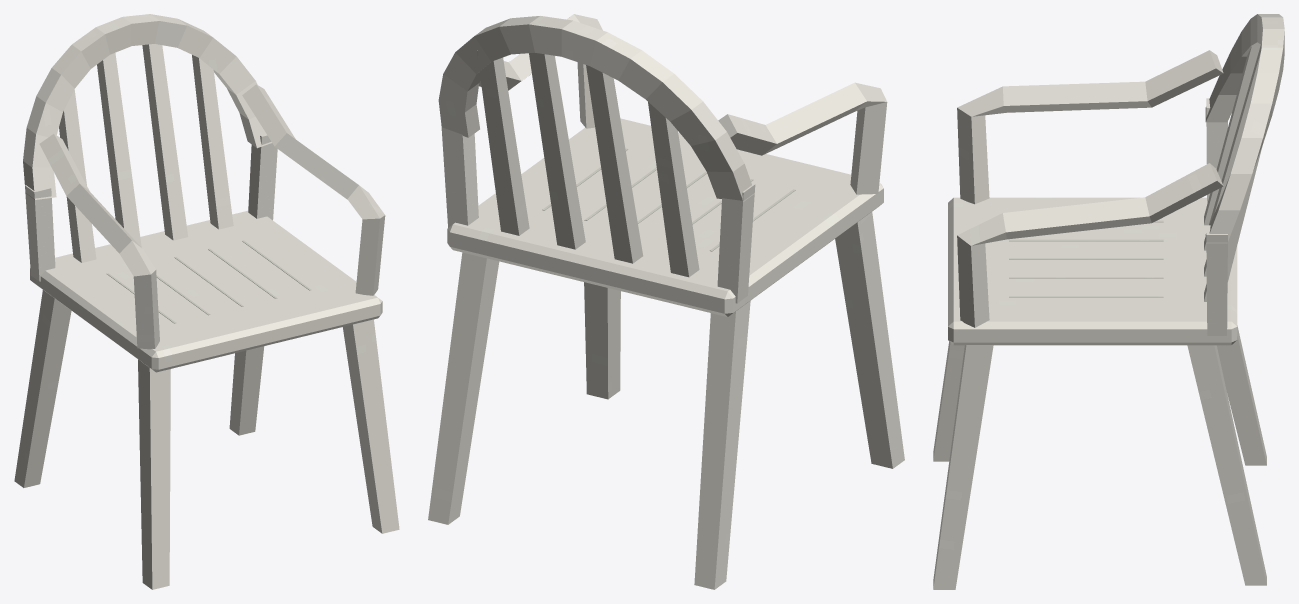
The model's file is pool_chair.glb.
3 renders of one model, left to right at view 1: azimuth 30°, elevation 25°; view 2: azimuth 150°, elevation 25°; view 3: azimuth 270°, elevation 25°, orthographic. The views are drawn at different scales.
Parts seen in each view (by area): view 1: core_pool_chair; view 2: core_pool_chair; view 3: core_pool_chair.
Part boxes in pixels (box(x1,y1,x2,y2)): core_pool_chair: box(14, 14, 399, 589); core_pool_chair: box(428, 14, 904, 589); core_pool_chair: box(933, 14, 1284, 589).
Bounding box in the file's own units: 0.52 × 0.85 × 0.55.
2 materials, 2 textured.
